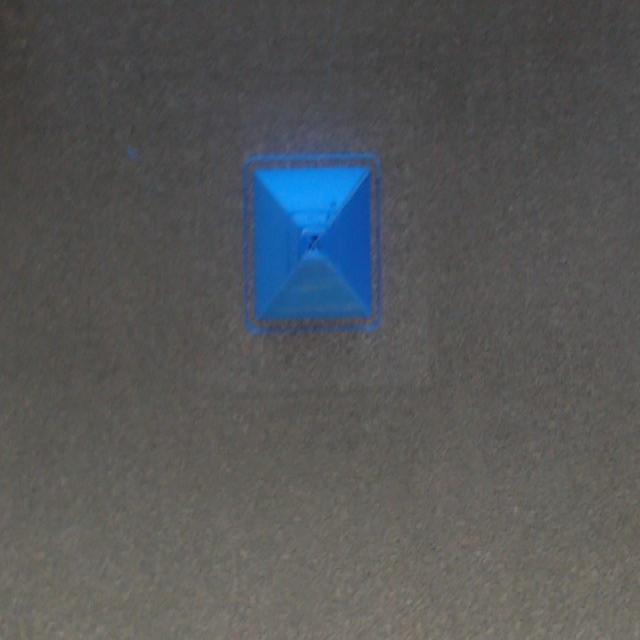mistake: (300, 228, 327, 260)
